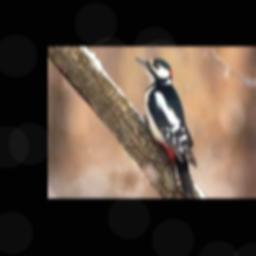Woodpecker: (134, 56, 196, 198)
